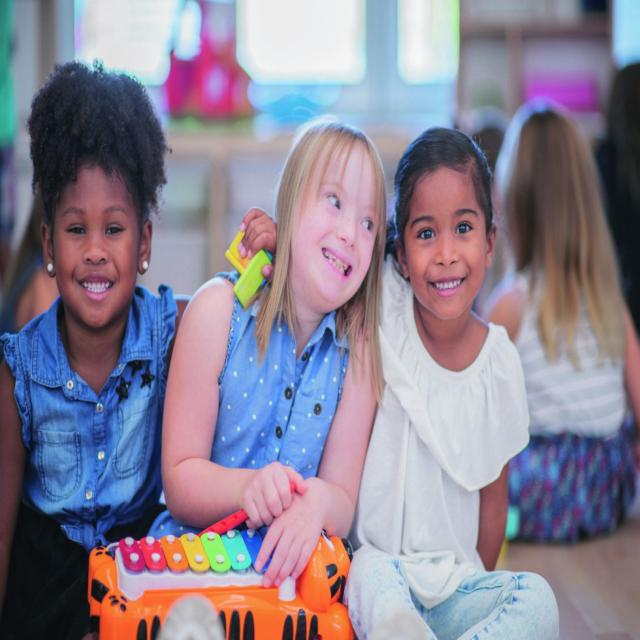child: (163, 122, 384, 639), (2, 59, 195, 640), (352, 127, 560, 640)
